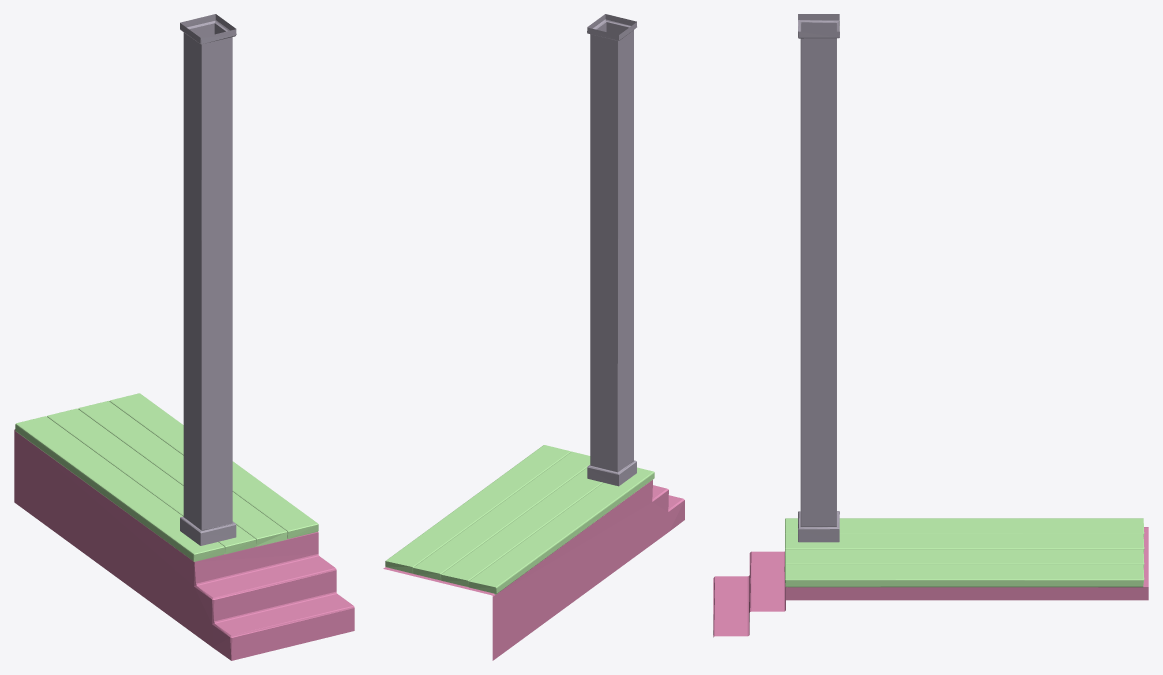
File: SM_House_FrontStairs_A_LFT.fbx
3 views of the same model, side by side, from view 1: azimuth 30°, elevation 25°; view 2: azimuth 150°, elevation 25°; view 3: azimuth 270°, elevation 25° (orthographic). The views are drawn at different scales.
Visible parts, largest first — view 1: SM_House_FrontStairs_A_LFT; view 2: SM_House_FrontStairs_A_LFT; view 3: SM_House_FrontStairs_A_LFT.
Boxes of the visible parts, left/top/right/bottom form: SM_House_FrontStairs_A_LFT: left=14, top=14, right=354, bottom=660; SM_House_FrontStairs_A_LFT: left=383, top=14, right=684, bottom=660; SM_House_FrontStairs_A_LFT: left=713, top=14, right=1148, bottom=637.
Bounding box in the file's own units: 80.07 × 240 × 360.
